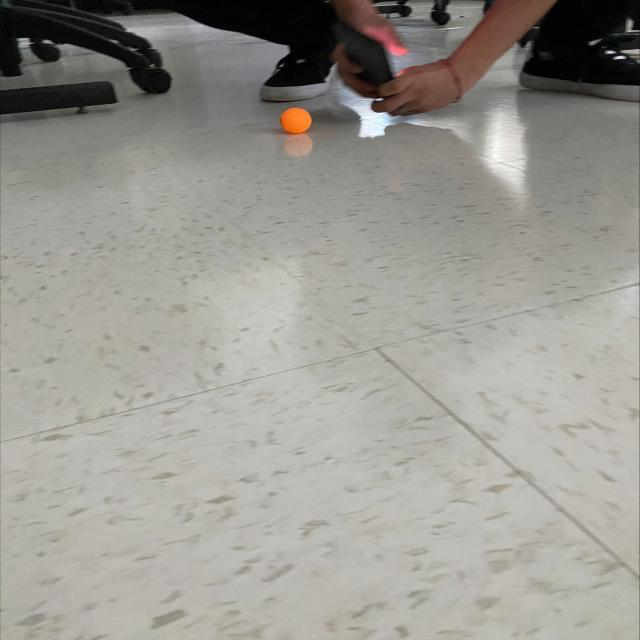ping-pong-ball: (278, 106, 314, 135)
